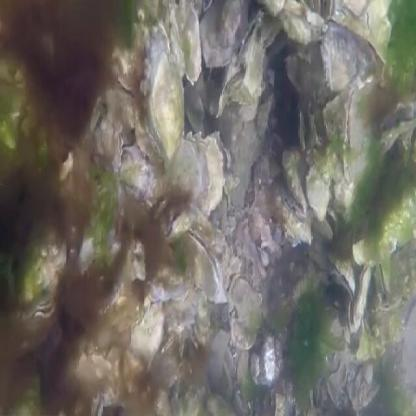Oyster- Indeterminate: (186, 131, 224, 214), (181, 228, 221, 302), (167, 140, 203, 204), (94, 116, 123, 173), (327, 253, 358, 300), (239, 14, 264, 64), (354, 266, 372, 326), (376, 253, 391, 293), (308, 112, 319, 152), (304, 12, 323, 29), (161, 334, 177, 353)
Oyster-Closed: (146, 52, 184, 162), (201, 0, 249, 68), (273, 174, 317, 241), (321, 22, 358, 89), (281, 145, 309, 212), (353, 227, 400, 265), (306, 163, 330, 220), (219, 0, 242, 47), (255, 0, 287, 16)
Oyster-Open: (7, 225, 67, 320), (343, 73, 379, 182), (381, 103, 415, 151), (163, 209, 193, 241), (312, 207, 339, 242), (112, 76, 133, 99)
